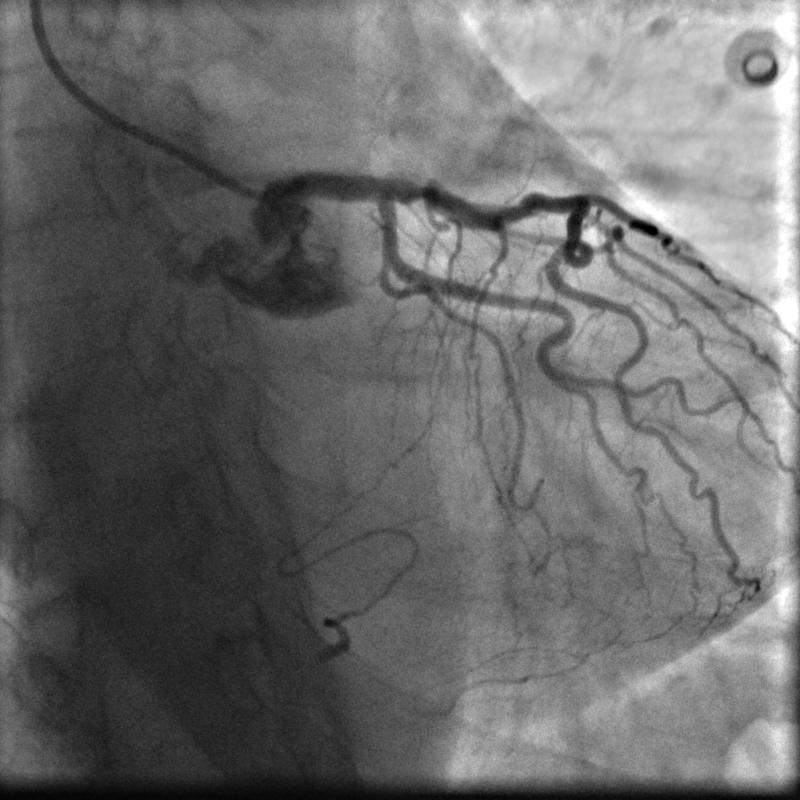Stenosis: (400, 174, 432, 209)
